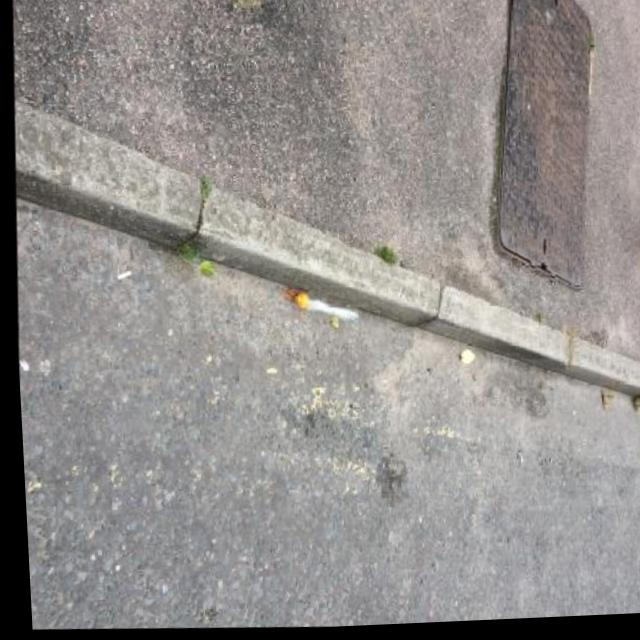plastic: (291, 286, 359, 331)
